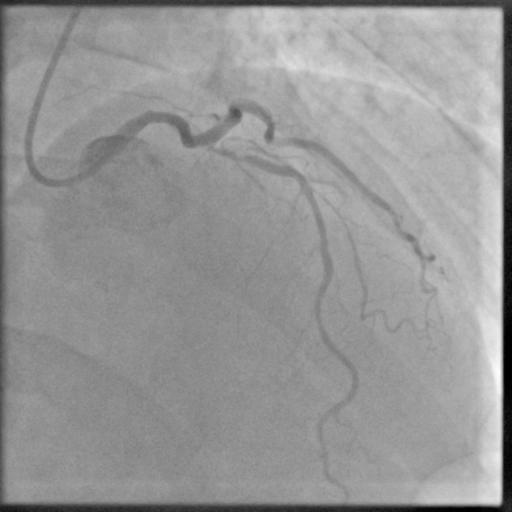Stenosis: (210, 142, 255, 163)
